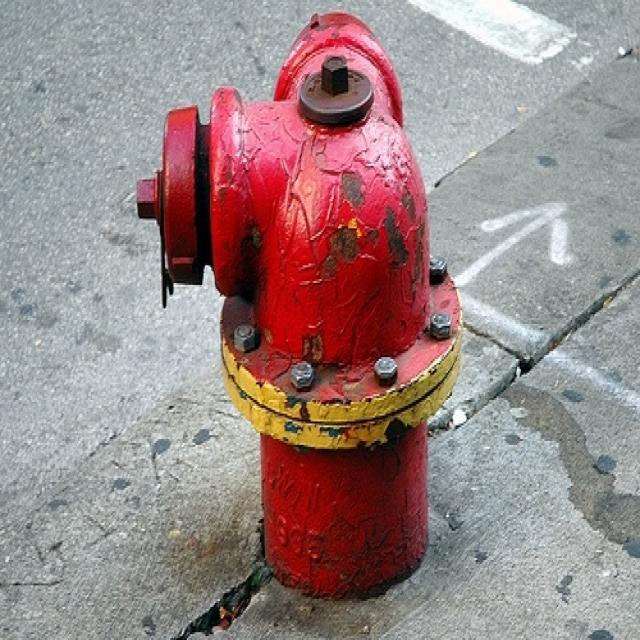fire_hydrant: (142, 27, 481, 600)
